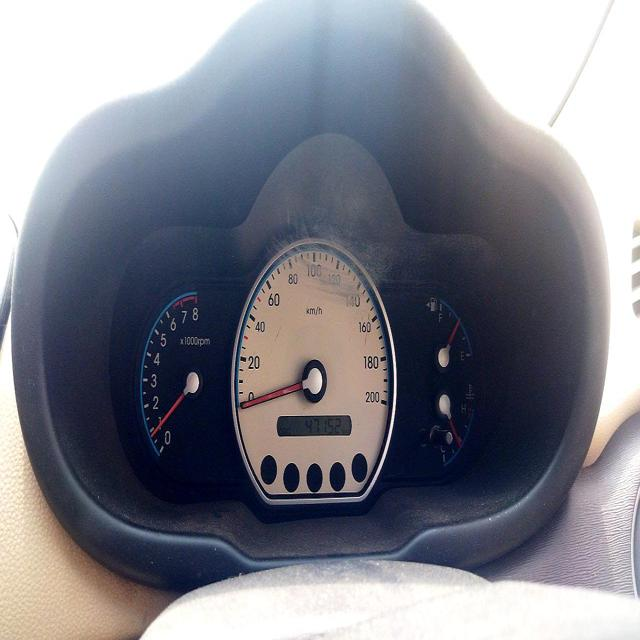odometer: (304, 415, 342, 435)
